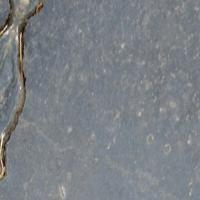crack: (0, 0, 62, 181)
